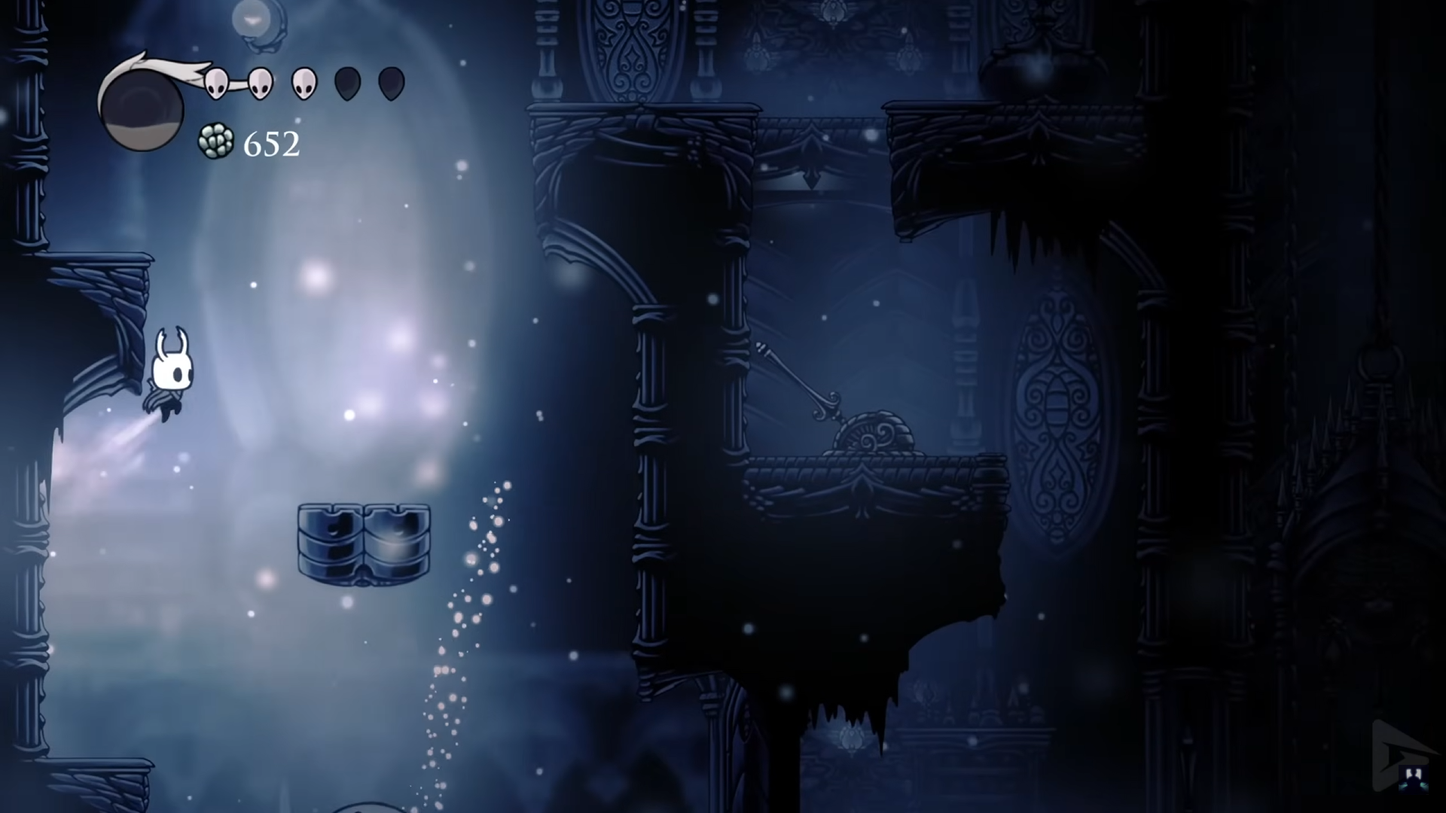HK: (139, 321, 203, 428)
